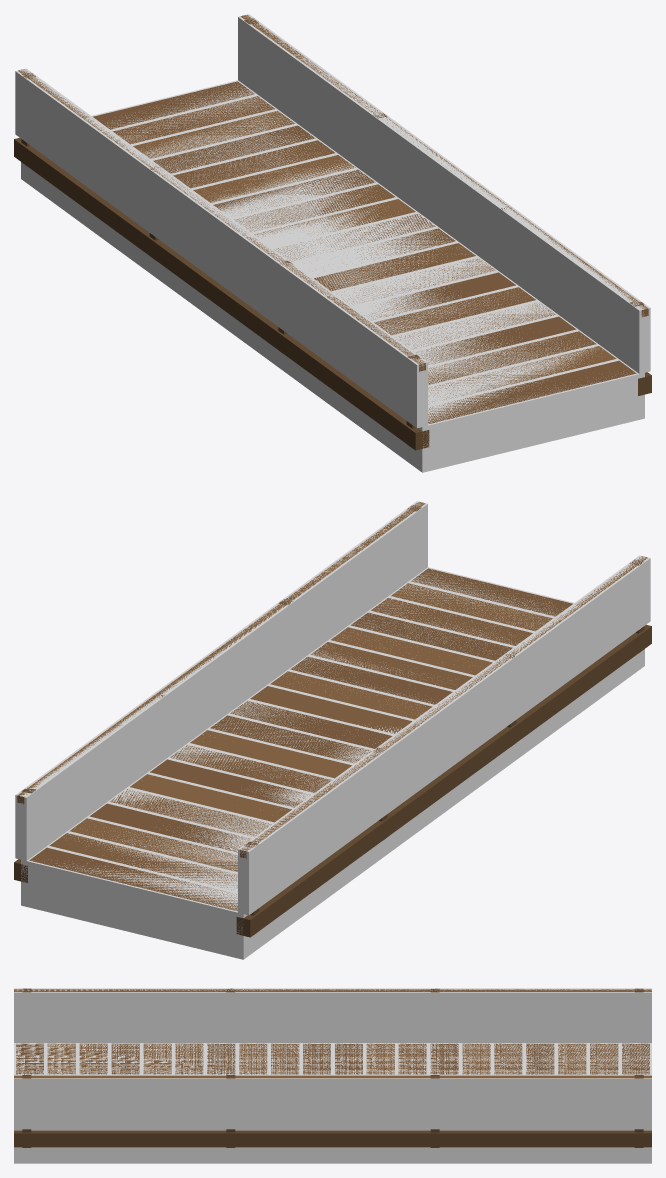
The model's file is puente_madera.glb.
The picture shows the model from 3 angles, top to bottom: view 1: azimuth 30°, elevation 25°; view 2: azimuth 150°, elevation 25°; view 3: azimuth 270°, elevation 25°; orthographic projection. The views are drawn at different scales.
Parts seen in each view (by area): view 1: COL_0, puente_madera_Malla, COL_1, COL_2; view 2: puente_madera_Malla, COL_0, COL_1, COL_2; view 3: COL_2, COL_1, puente_madera_Malla, COL_0.
Part boxes in pixels (x1,y1,x2,y2): COL_0: (21, 80, 644, 472); puente_madera_Malla: (14, 15, 651, 450); COL_1: (15, 68, 427, 428); COL_2: (238, 14, 650, 373); puente_madera_Malla: (14, 502, 651, 937); COL_0: (21, 567, 644, 959); COL_1: (238, 555, 650, 915); COL_2: (15, 501, 427, 860); COL_2: (14, 1074, 651, 1129); COL_1: (14, 988, 651, 1042); puente_madera_Malla: (14, 988, 651, 1147); COL_0: (14, 1043, 651, 1163).
Size of the model in its own units: 3.4 by 1.5 by 10.
